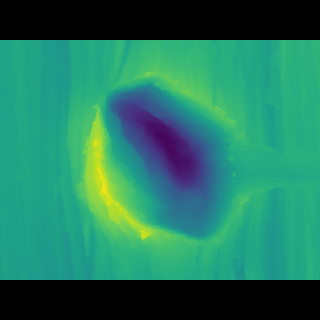Loch: (71, 90, 249, 229)
